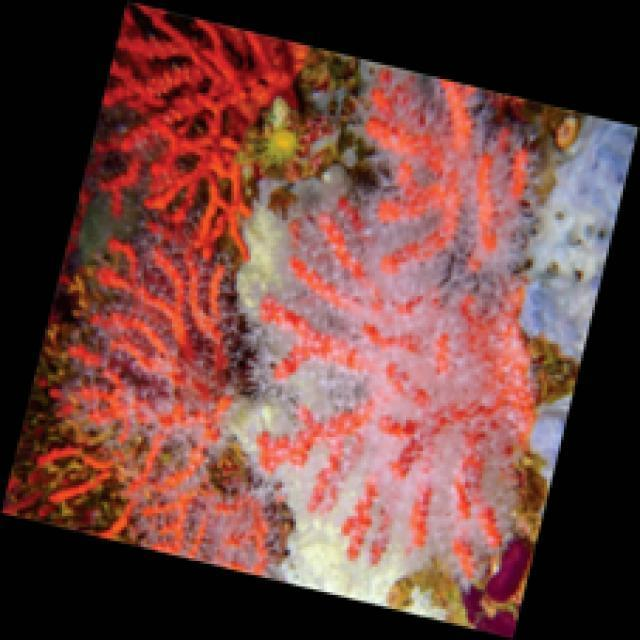Bleached: (516, 113, 640, 490)
Healthy: (251, 66, 537, 582), (40, 234, 272, 582), (91, 1, 313, 260), (256, 122, 304, 175)
